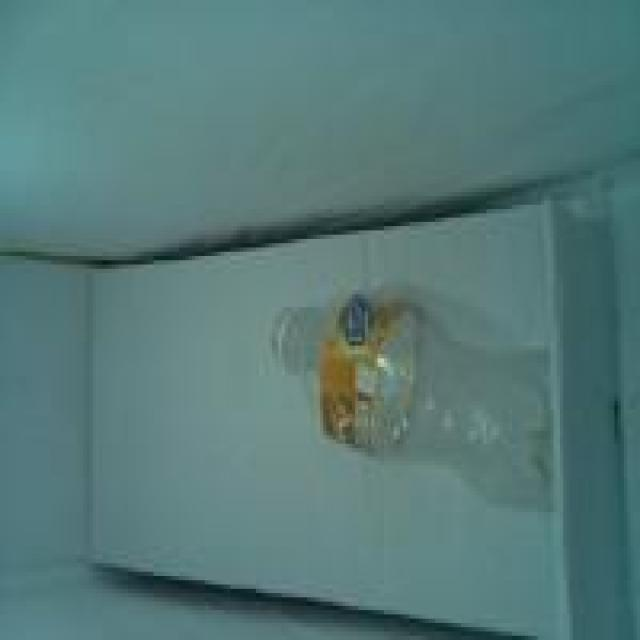bottle: (238, 271, 602, 557)
